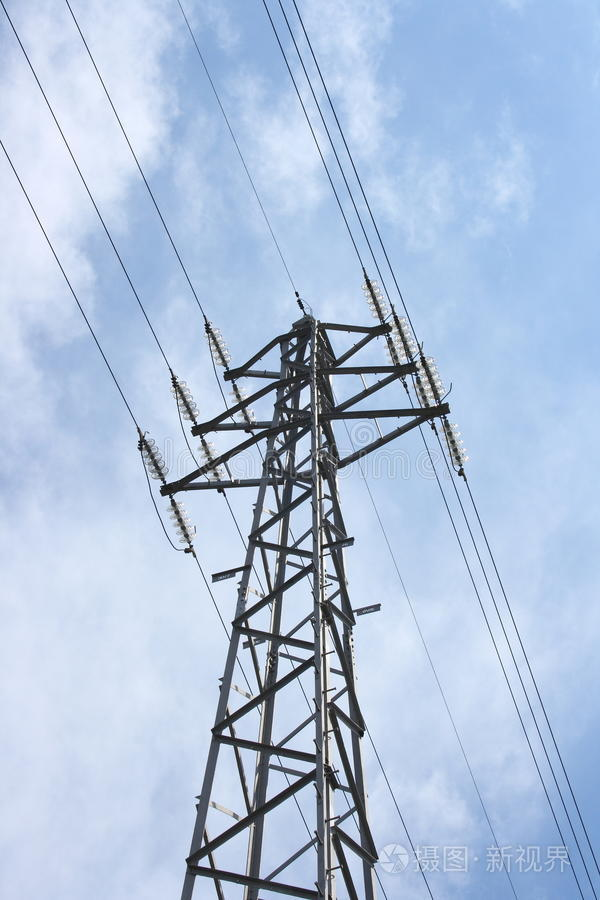insulator: (382, 318, 413, 368), (439, 419, 469, 467), (136, 438, 169, 479), (168, 502, 197, 546), (226, 387, 258, 425), (171, 378, 198, 423), (418, 353, 443, 400), (199, 442, 227, 483), (363, 278, 390, 319), (207, 328, 231, 367)
